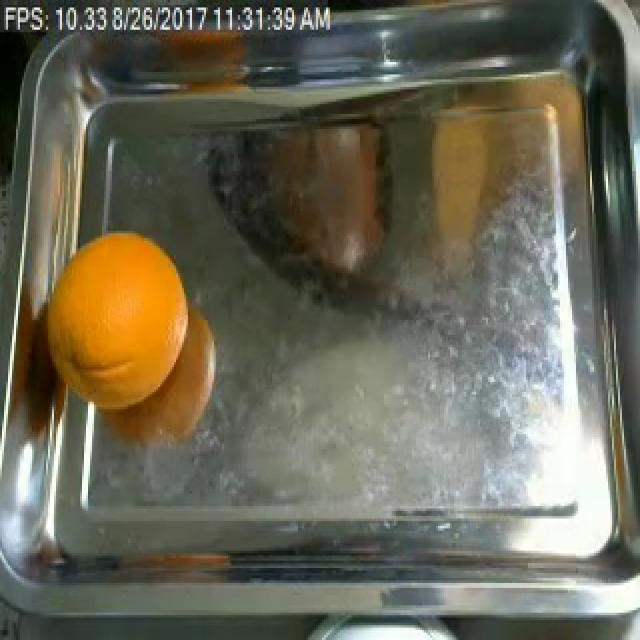Fruit: (414, 67, 586, 365), (30, 218, 196, 422), (234, 109, 398, 285)
